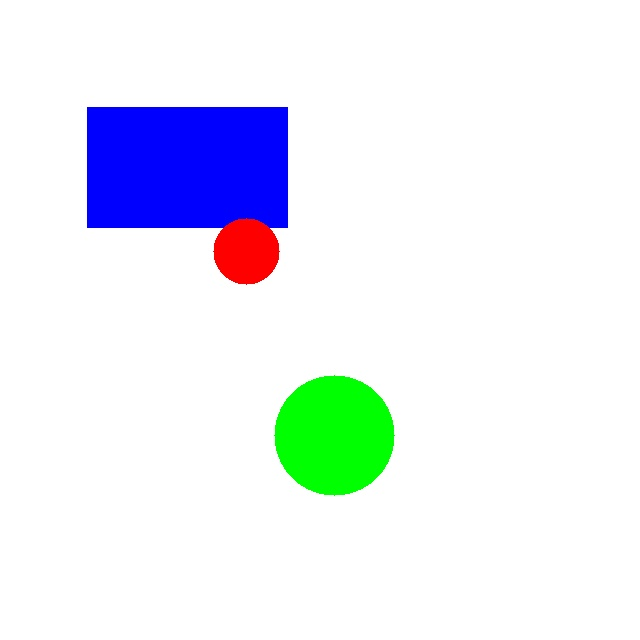cartao: (87, 107, 287, 227)
rosca_externa: (274, 375, 394, 495)
rosca_interna: (213, 218, 279, 284)
